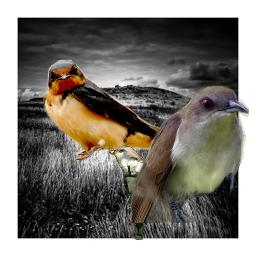Cuckoo: (130, 86, 249, 223), (107, 146, 152, 240)
Swallow: (41, 59, 226, 173)
